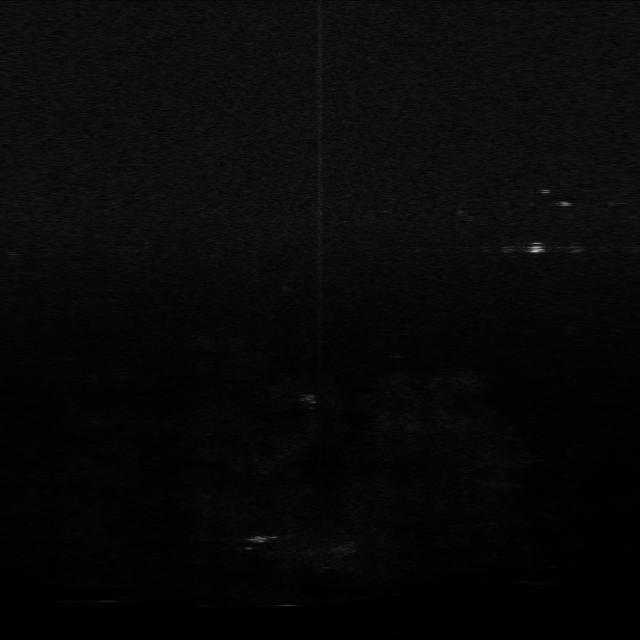rov: (523, 236, 546, 259)
